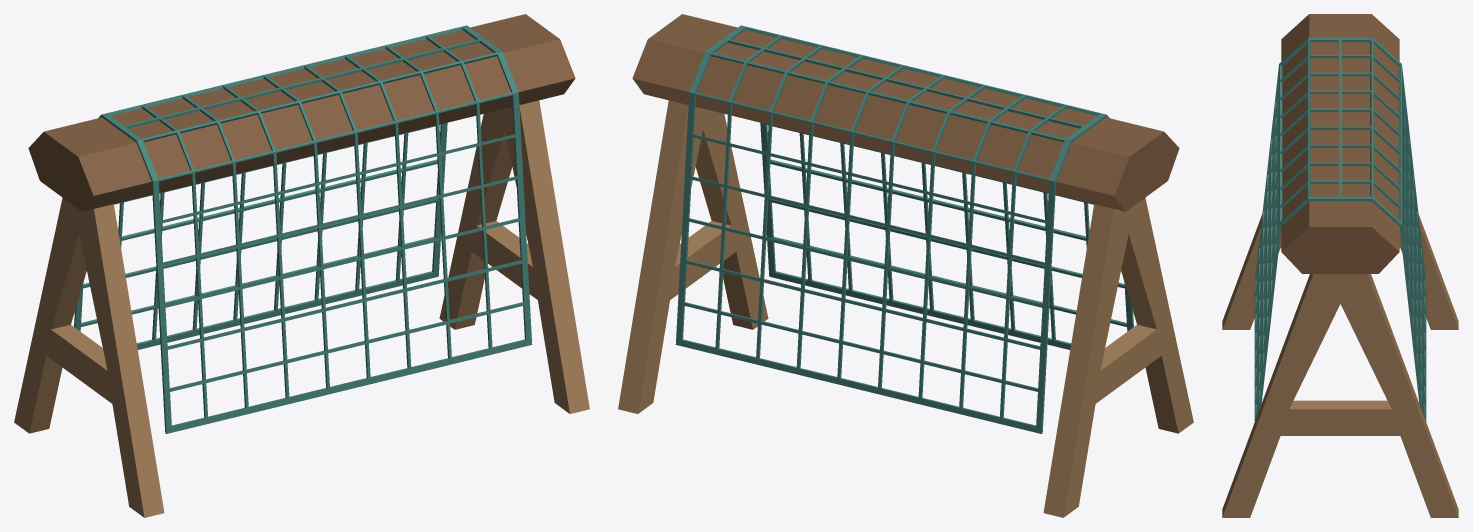
The picture shows the model from 3 angles, left to right: view 1: azimuth 30°, elevation 25°; view 2: azimuth 150°, elevation 25°; view 3: azimuth 270°, elevation 25°; orthographic projection. The views are drawn at different scales.
Visible parts, largest first — view 1: OneContinuousDrapedGridSheet, WideFlatTopShoulderedBeam, LeftOnePieceAFrame, RightOnePieceAFrame; view 2: OneContinuousDrapedGridSheet, WideFlatTopShoulderedBeam, LeftOnePieceAFrame, RightOnePieceAFrame; view 3: WideFlatTopShoulderedBeam, RightOnePieceAFrame, OneContinuousDrapedGridSheet, LeftOnePieceAFrame.
Boxes of the visible parts, box(x1,y1,x2,y2) form: OneContinuousDrapedGridSheet: box(74, 25, 532, 433); WideFlatTopShoulderedBeam: box(28, 14, 575, 211); LeftOnePieceAFrame: box(14, 197, 164, 517); RightOnePieceAFrame: box(439, 100, 589, 413); OneContinuousDrapedGridSheet: box(675, 25, 1133, 433); WideFlatTopShoulderedBeam: box(632, 14, 1179, 211); LeftOnePieceAFrame: box(1043, 197, 1193, 517); RightOnePieceAFrame: box(618, 100, 768, 413); WideFlatTopShoulderedBeam: box(1281, 14, 1399, 273); RightOnePieceAFrame: box(1222, 274, 1458, 517); OneContinuousDrapedGridSheet: box(1254, 37, 1426, 421); LeftOnePieceAFrame: box(1222, 214, 1458, 329).
Size of the model in its own units: 2.9 by 1.91 by 1.36.
